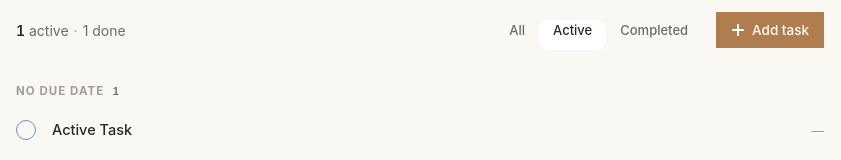
Test: TodoView › filters by completed tasks
The image size is (841, 160).
Click the button "Completed".
click(654, 30)  # box [606,16,702,44]
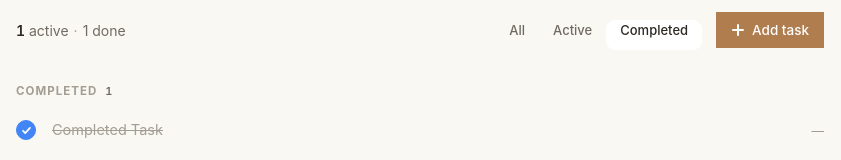
Now the button "Active Task" is gone
Now the text "Completed Task" is shown, box [52,121,163,138]
